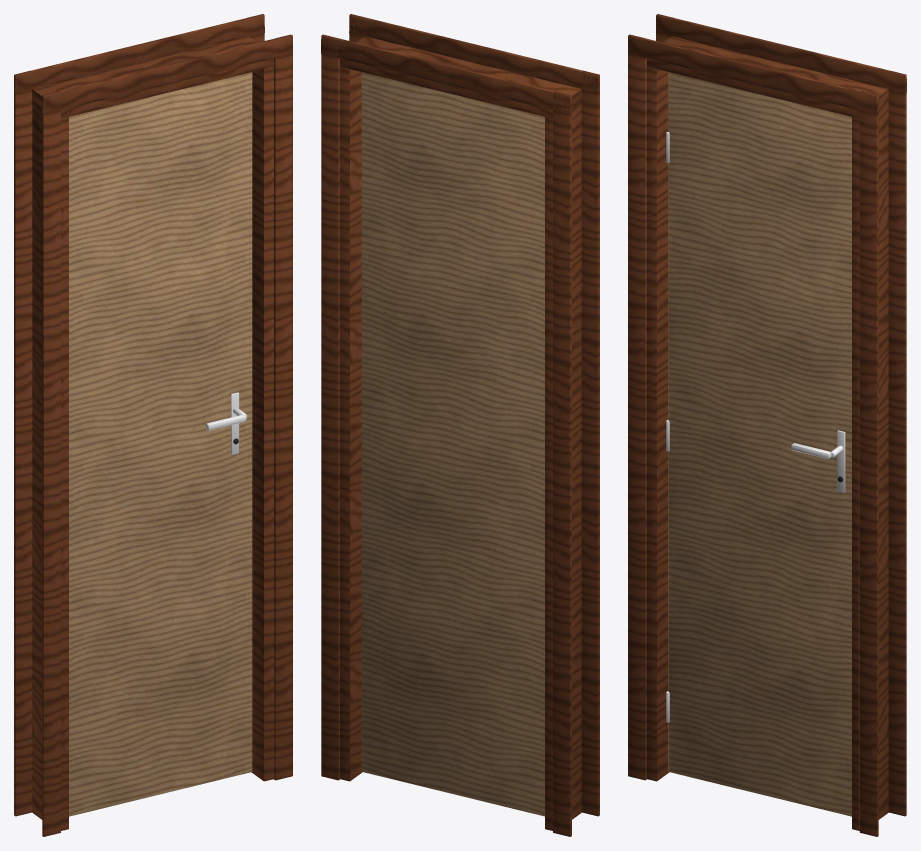
The model's file is ESQ-PMD-001_lod1.glb.
3 renders of one model, left to right at view 1: azimuth 30°, elevation 25°; view 2: azimuth 150°, elevation 25°; view 3: azimuth 330°, elevation 25°, orthographic.
Visible parts, largest first — view 1: ESQ-PMD-001_folha, ESQ-PMD-001_batente_d, ESQ-PMD-001_guarnicao_e1, ESQ-PMD-001_guarnicao_e-1, ESQ-PMD-001_guarnicao_d-1, ESQ-PMD-001_batente_e, ESQ-PMD-001_guarnicao_c-1, ESQ-PMD-001_guarnicao_c1, ESQ-PMD-001_batente_c; view 2: ESQ-PMD-001_folha, ESQ-PMD-001_batente_d, ESQ-PMD-001_guarnicao_e1, ESQ-PMD-001_guarnicao_e-1, ESQ-PMD-001_guarnicao_d1, ESQ-PMD-001_batente_e, ESQ-PMD-001_guarnicao_c1, ESQ-PMD-001_guarnicao_c-1, ESQ-PMD-001_batente_c; view 3: ESQ-PMD-001_folha, ESQ-PMD-001_batente_e, ESQ-PMD-001_guarnicao_d-1, ESQ-PMD-001_guarnicao_e-1, ESQ-PMD-001_guarnicao_d1, ESQ-PMD-001_batente_d, ESQ-PMD-001_guarnicao_c-1, ESQ-PMD-001_guarnicao_c1, ESQ-PMD-001_batente_c.
Part boxes in pixels (bbox=[...]): ESQ-PMD-001_folha: bbox=[69, 72, 252, 816]; ESQ-PMD-001_batente_d: bbox=[247, 36, 273, 781]; ESQ-PMD-001_guarnicao_e1: bbox=[14, 70, 32, 816]; ESQ-PMD-001_guarnicao_e-1: bbox=[42, 91, 60, 836]; ESQ-PMD-001_guarnicao_d-1: bbox=[274, 34, 292, 780]; ESQ-PMD-001_batente_e: bbox=[32, 87, 68, 830]; ESQ-PMD-001_guarnicao_c-1: bbox=[42, 36, 292, 113]; ESQ-PMD-001_guarnicao_c1: bbox=[14, 15, 264, 93]; ESQ-PMD-001_batente_c: bbox=[32, 36, 273, 118]; ESQ-PMD-001_folha: bbox=[361, 72, 544, 816]; ESQ-PMD-001_batente_d: bbox=[340, 63, 362, 781]; ESQ-PMD-001_guarnicao_e1: bbox=[553, 91, 571, 836]; ESQ-PMD-001_guarnicao_e-1: bbox=[581, 70, 599, 816]; ESQ-PMD-001_guarnicao_d1: bbox=[321, 34, 339, 780]; ESQ-PMD-001_batente_e: bbox=[545, 89, 581, 830]; ESQ-PMD-001_guarnicao_c1: bbox=[321, 36, 571, 114]; ESQ-PMD-001_guarnicao_c-1: bbox=[349, 16, 599, 93]; ESQ-PMD-001_batente_c: bbox=[340, 36, 581, 118]; ESQ-PMD-001_folha: bbox=[668, 72, 851, 816]; ESQ-PMD-001_batente_e: bbox=[647, 36, 671, 781]; ESQ-PMD-001_guarnicao_d-1: bbox=[859, 91, 878, 836]; ESQ-PMD-001_guarnicao_e-1: bbox=[628, 34, 646, 780]; ESQ-PMD-001_guarnicao_d1: bbox=[888, 70, 906, 816]; ESQ-PMD-001_batente_d: bbox=[852, 87, 888, 830]; ESQ-PMD-001_guarnicao_c-1: bbox=[628, 36, 878, 114]; ESQ-PMD-001_guarnicao_c1: bbox=[656, 16, 906, 93]; ESQ-PMD-001_batente_c: bbox=[647, 36, 887, 118].
Size of the model in its own units: 0.77 by 2.18 by 0.1655.
4 materials, 2 textured.
